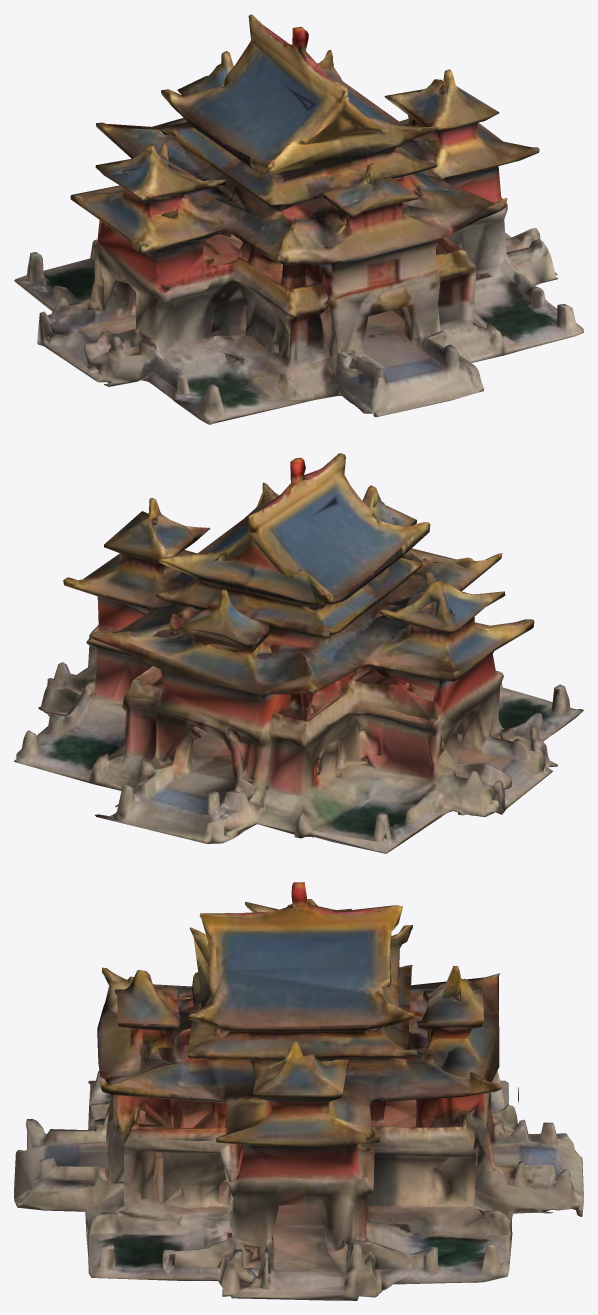
File: bq_array_hall.mid.glb
3 views of the same model, one above another, from view 1: azimuth 30°, elevation 25°; view 2: azimuth 150°, elevation 25°; view 3: azimuth 270°, elevation 25° (orthographic). The views are drawn at different scales.
Size of the model in its own units: 1.99 by 1.15 by 1.99.
1 material, 1 textured.
